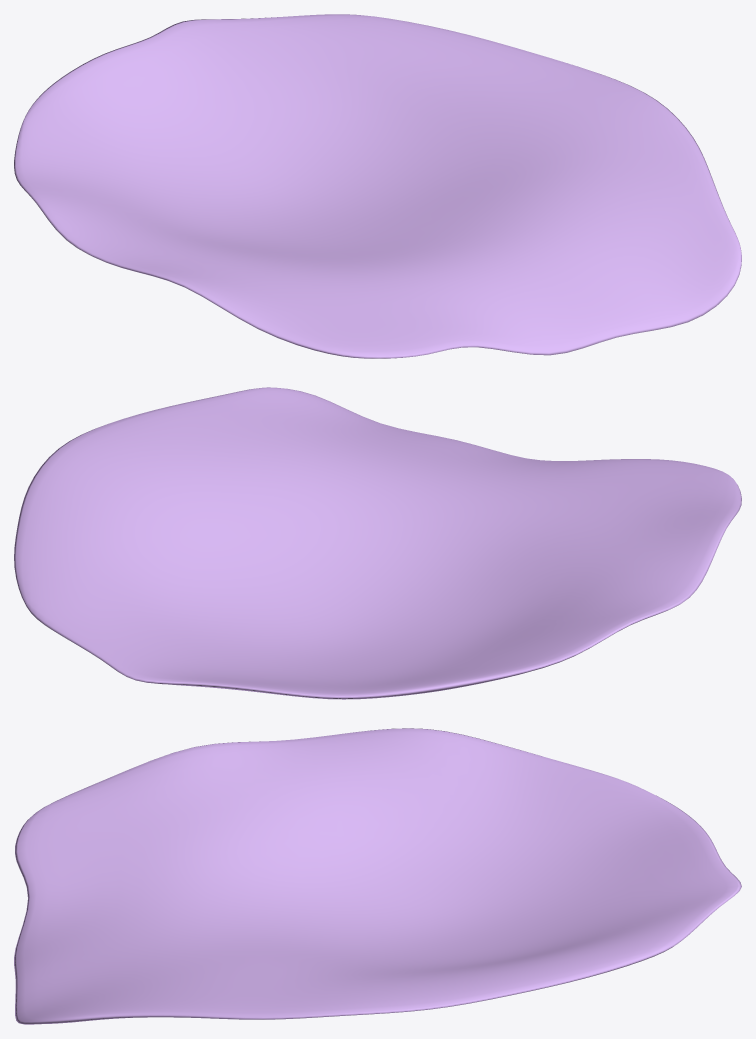
File: Petal.gltf
3 renders of one model, top to bottom at view 1: azimuth 30°, elevation 25°; view 2: azimuth 150°, elevation 25°; view 3: azimuth 270°, elevation 25°, orthographic. The views are drawn at different scales.
Visible parts, largest first — view 1: petal1_Plane.001 2; view 2: petal1_Plane.001 2; view 3: petal1_Plane.001 2.
Boxes of the visible parts, bbox=[...] form: petal1_Plane.001 2: bbox=[14, 14, 741, 358]; petal1_Plane.001 2: bbox=[14, 387, 741, 699]; petal1_Plane.001 2: bbox=[14, 728, 741, 1024].
Bounding box in the file's own units: 0.00521 × 0.000658 × 0.00567.
